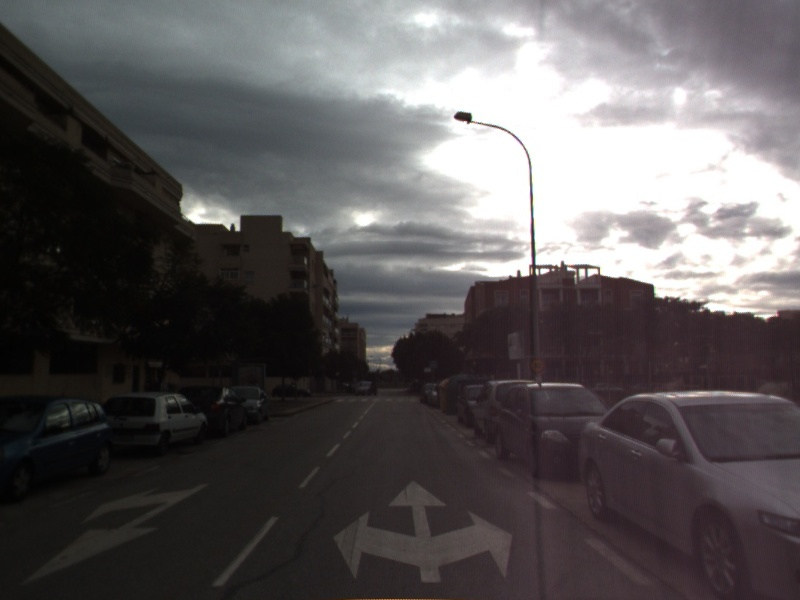STRAIGHT_LEFT_RIGHT: (330, 477, 517, 586)
